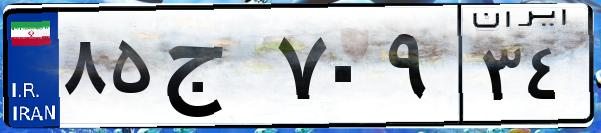0: (330, 28, 385, 110)
3: (475, 38, 525, 113)
4: (525, 38, 570, 115)
5: (110, 28, 158, 98)
7: (270, 28, 330, 110)
8: (57, 26, 110, 100)
9: (385, 28, 445, 110)
ج: (158, 20, 270, 120)
